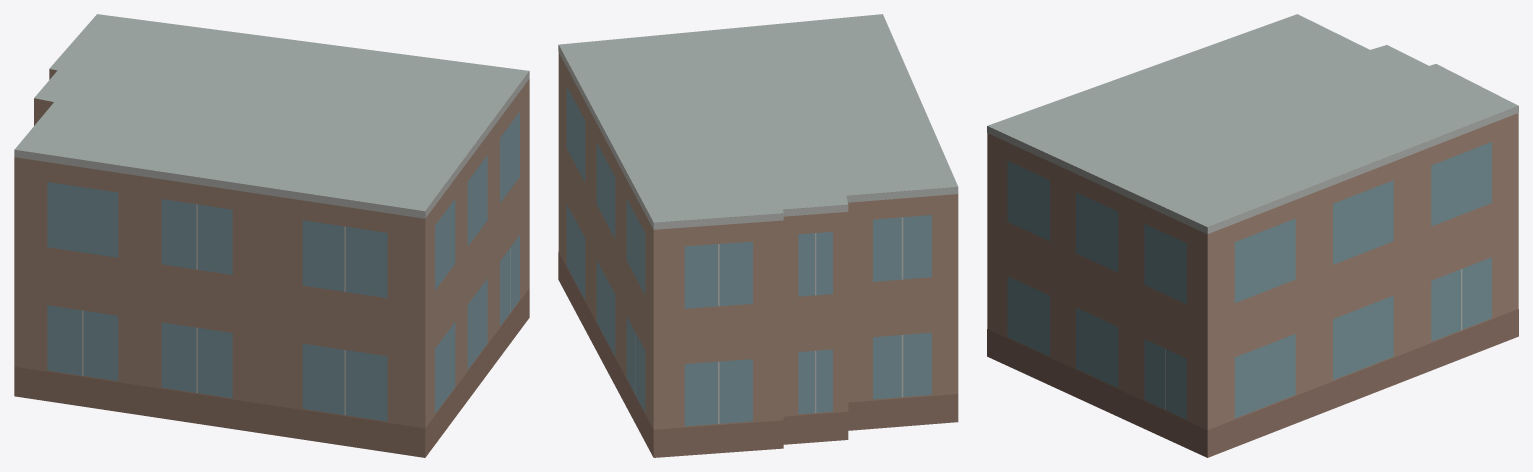
File: survey-upis-32638920.glb
The picture shows the model from 3 angles, left to right: view 1: azimuth 30°, elevation 25°; view 2: azimuth 150°, elevation 25°; view 3: azimuth 270°, elevation 25°; orthographic projection. The views are drawn at different scales.
Visible parts, largest first — view 1: survey-upis-32638920.tmp; view 2: survey-upis-32638920.tmp; view 3: survey-upis-32638920.tmp.
Boxes of the visible parts, x1=… form: survey-upis-32638920.tmp: x1=14, y1=14, x2=529, y2=457; survey-upis-32638920.tmp: x1=558, y1=14, x2=958, y2=457; survey-upis-32638920.tmp: x1=987, y1=14, x2=1518, y2=457.
Size of the model in its own units: 15.87 by 8 by 16.72.
